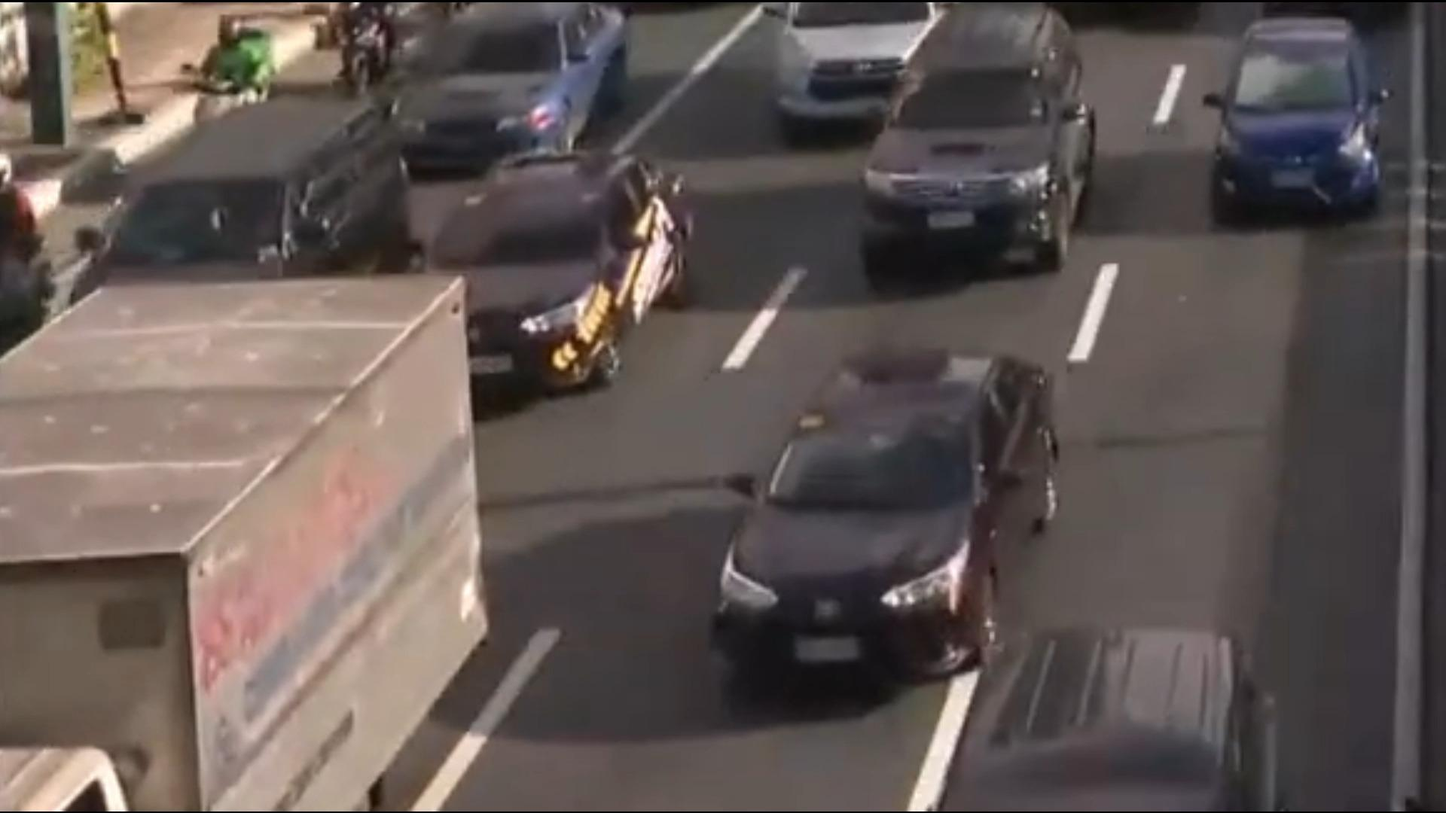Motorcycle: (171, 6, 279, 136)
SUV: (62, 104, 424, 309), (859, 8, 1090, 265)
Sedan: (712, 348, 1056, 678), (403, 139, 702, 395), (1203, 21, 1393, 220), (407, 0, 599, 160)
Truck: (0, 258, 512, 813)
